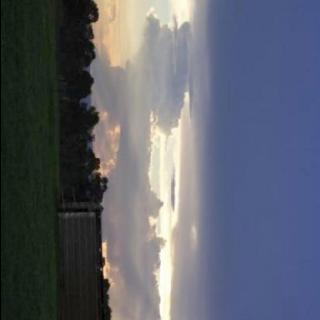Cumulonimbus: (100, 0, 194, 320)
